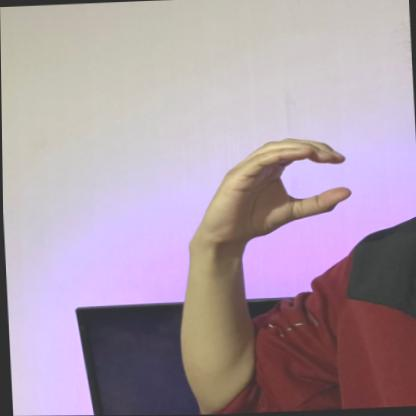C: (201, 128, 355, 245)
